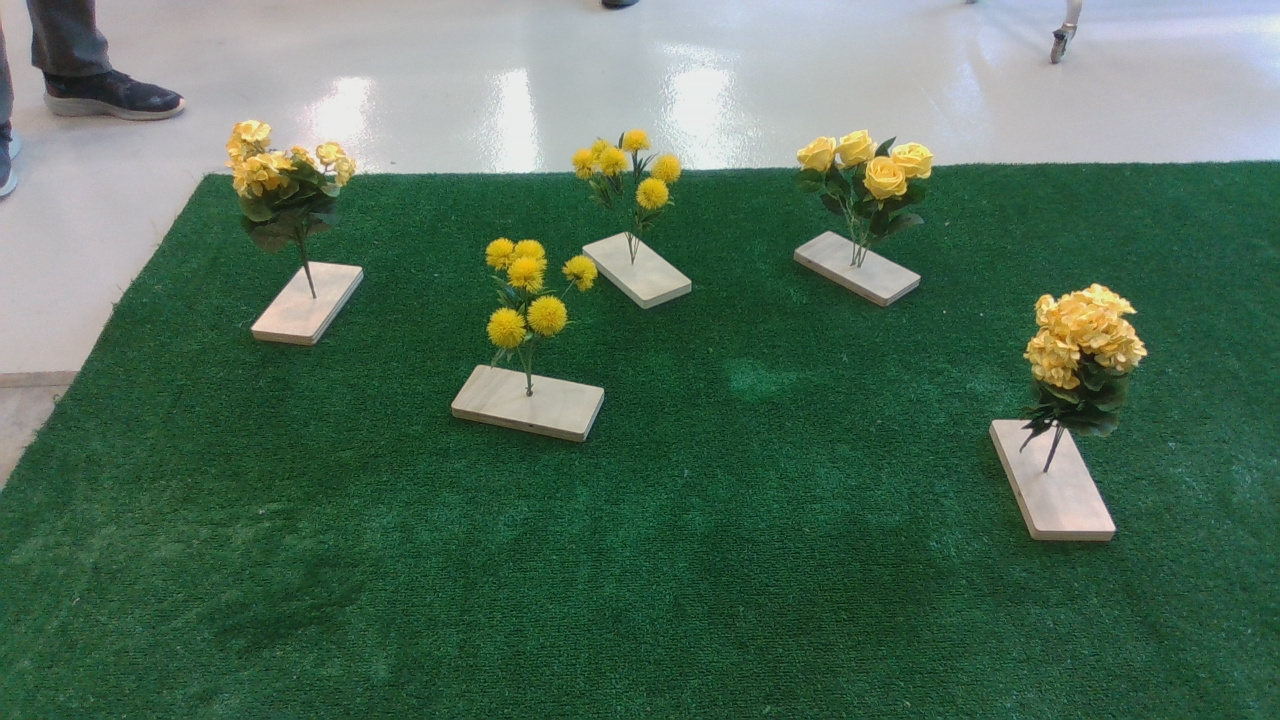dandelion: (475, 231, 606, 360), (570, 129, 694, 235)
geranium: (1028, 277, 1156, 447), (228, 120, 367, 270)
rose: (789, 131, 950, 238)
